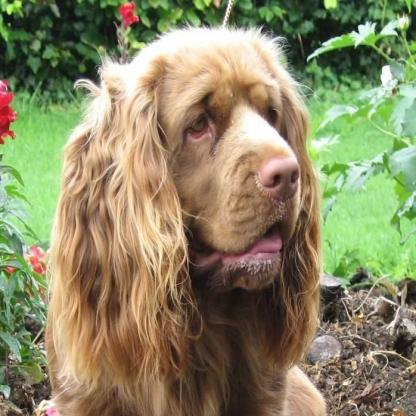Sussex_spaniel: (34, 22, 326, 414)
